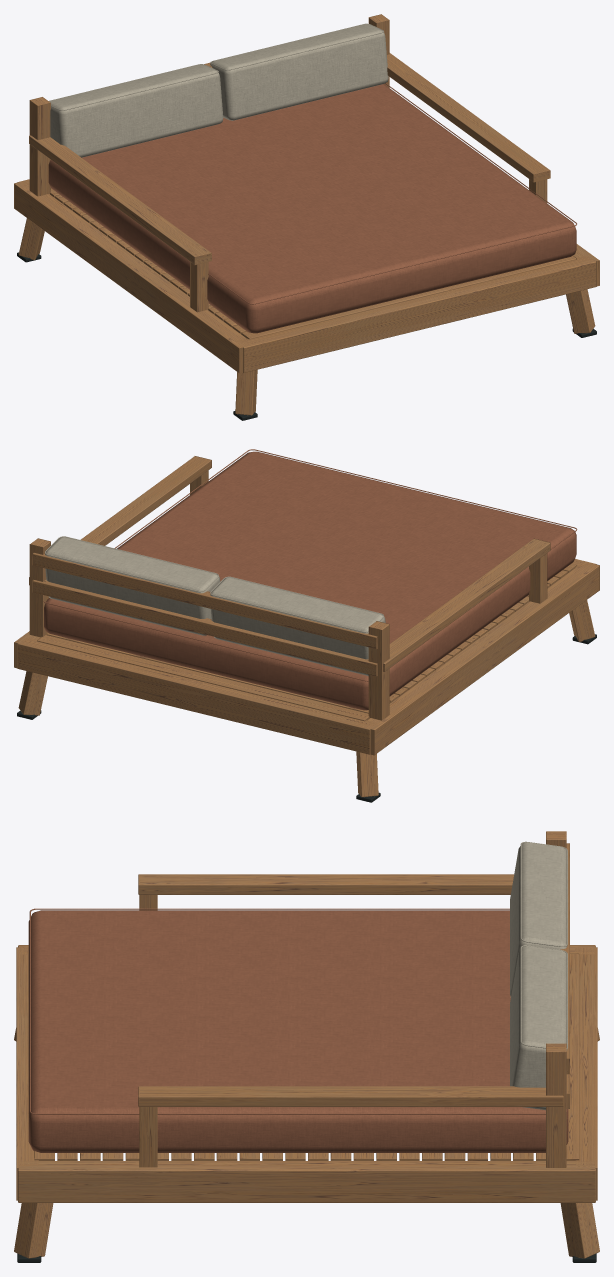
File: outdoor-teak-daybed.glb
The picture shows the model from 3 angles, top to bottom: view 1: azimuth 30°, elevation 25°; view 2: azimuth 150°, elevation 25°; view 3: azimuth 270°, elevation 25°; orthographic projection. The views are drawn at different scales.
Visible parts, largest first — view 1: catalog_surface_UVMap; view 2: catalog_surface_UVMap; view 3: catalog_surface_UVMap.
Boxes of the visible parts, left/top/right/bottom form: catalog_surface_UVMap: left=14, top=14, right=599, bottom=415; catalog_surface_UVMap: left=14, top=449, right=599, bottom=797; catalog_surface_UVMap: left=14, top=831, right=599, bottom=1258.
Size of the model in its own units: 1.86 by 0.81 by 2.04.
Materials: 7 (5 with a texture image).
